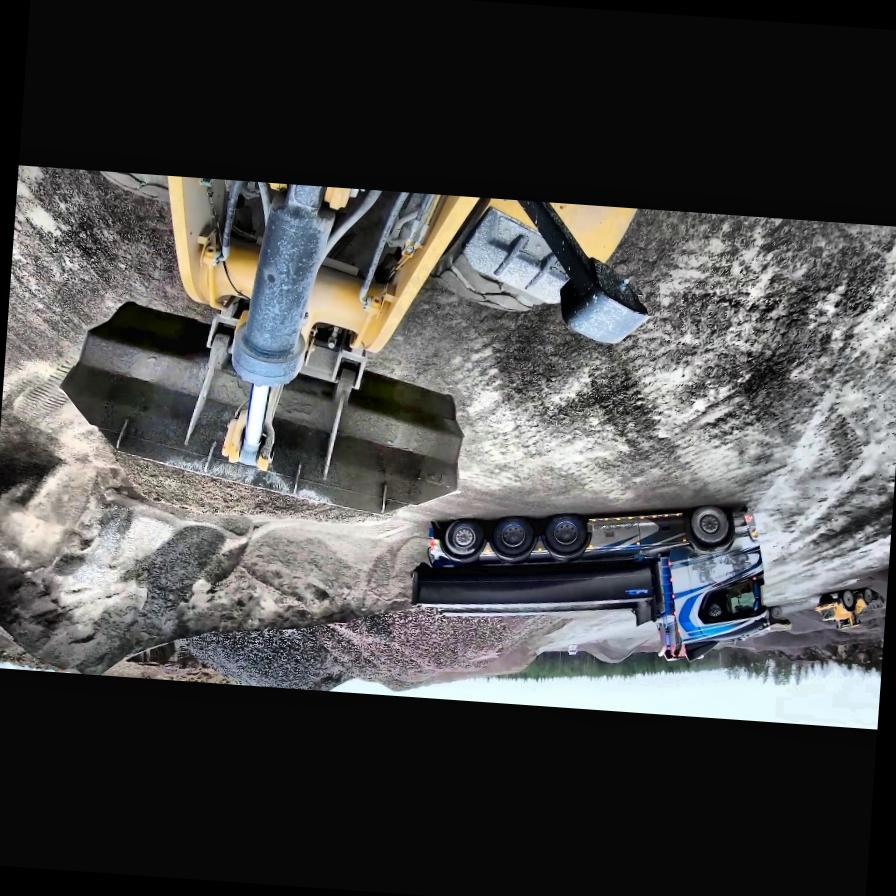anchor: (218, 384, 280, 472)
pile of gravel: (0, 445, 408, 696), (217, 584, 473, 702), (354, 601, 536, 698), (732, 592, 886, 668), (576, 634, 654, 668), (854, 556, 890, 618)
